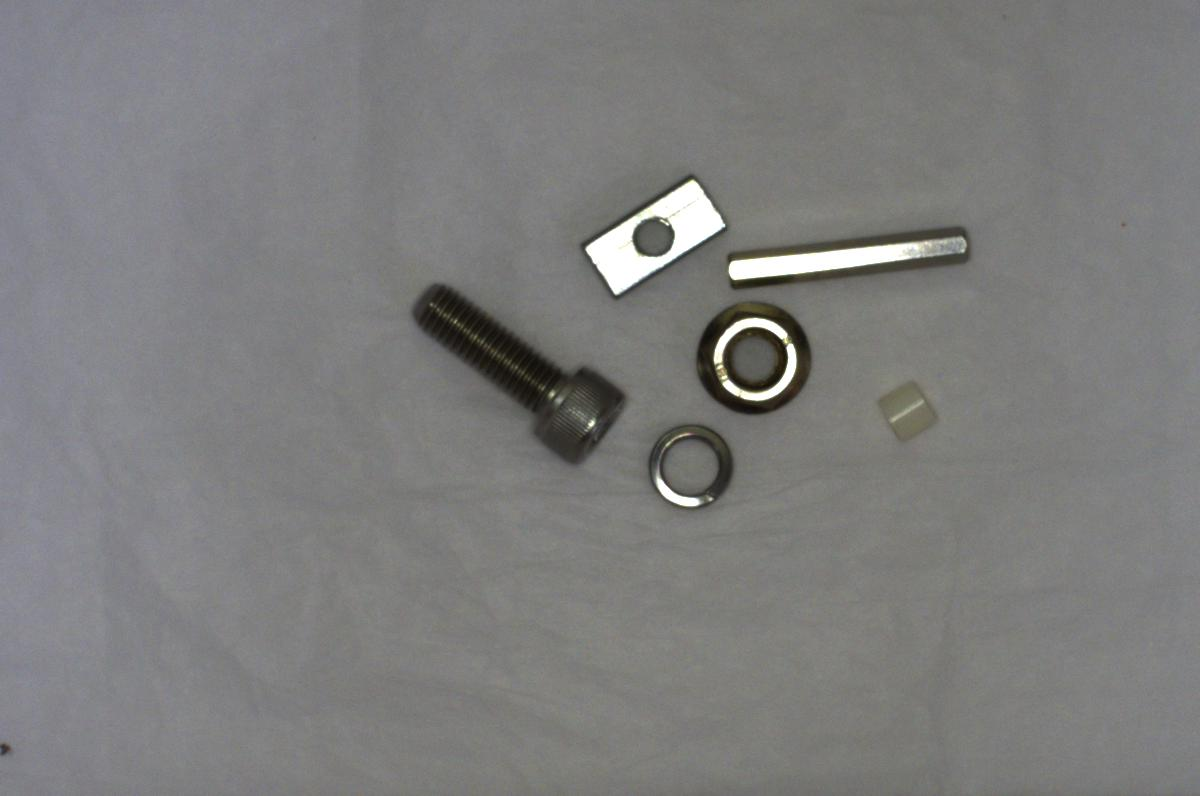Double hexagonal column: (724, 224, 976, 287)
Flange nut: (692, 298, 815, 419)
Hexagon screw: (401, 271, 632, 478)
Plastic cushion pillar: (870, 371, 944, 448)
Rectangular nut: (584, 165, 725, 305)
Spring washer: (642, 418, 737, 509)
